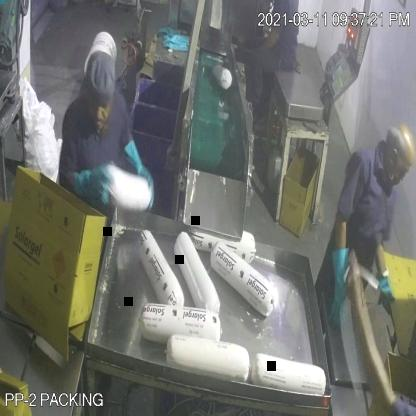glove: (119, 129, 162, 219), (329, 237, 358, 332), (378, 273, 398, 315)
no_glove: (344, 242, 405, 411), (254, 25, 280, 60)
